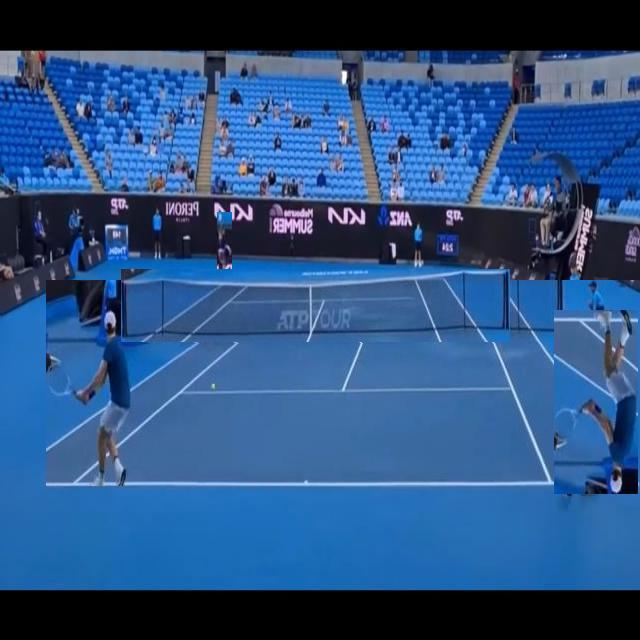court: (46, 280, 640, 486)
net: (121, 270, 512, 344)
player: (554, 310, 638, 494), (217, 212, 232, 272)
